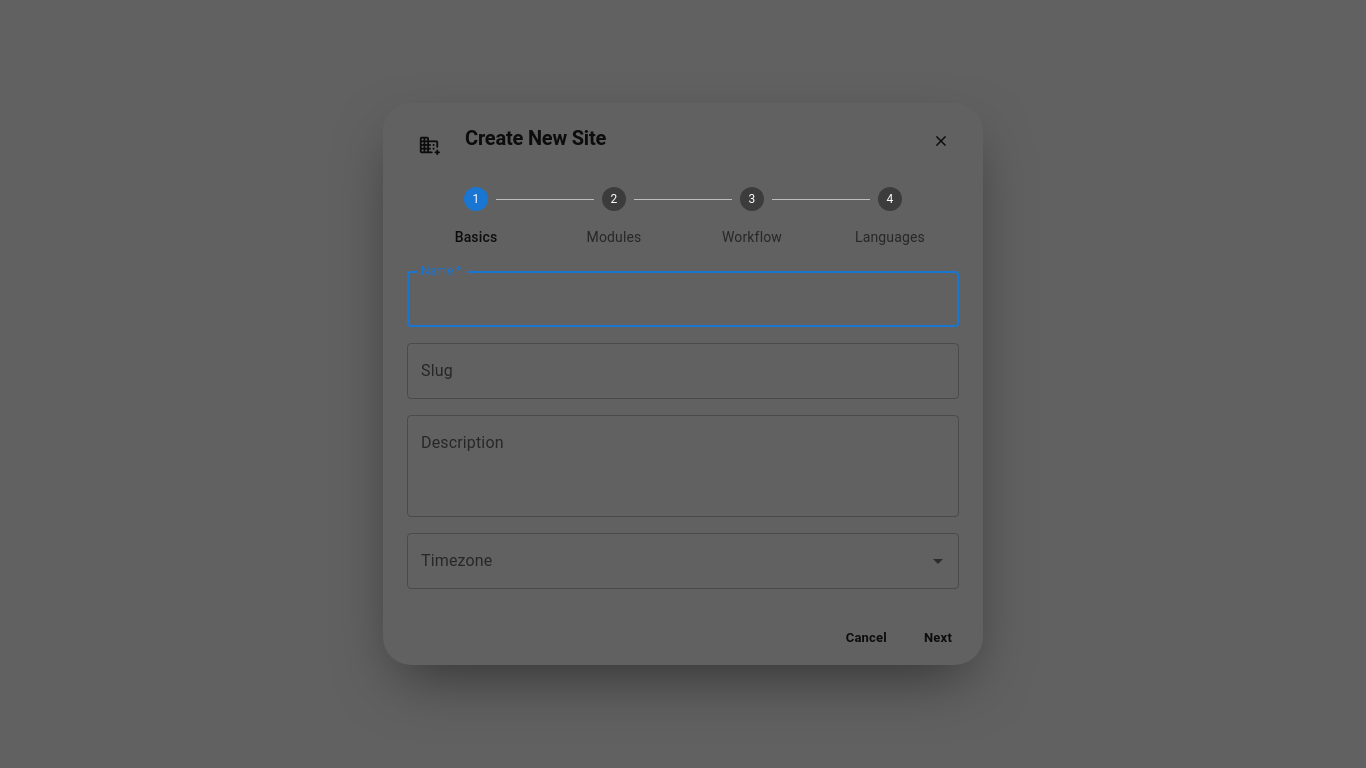
Test case: SiteCreationWizard › shows workflow step with solo/team cards
This screenshot has width=1366, height=768.
// Step 0 → Step 1 → Step 2
Type "My Site" into the field labelled "Name *" at (683, 299), box [407,271,959,327]
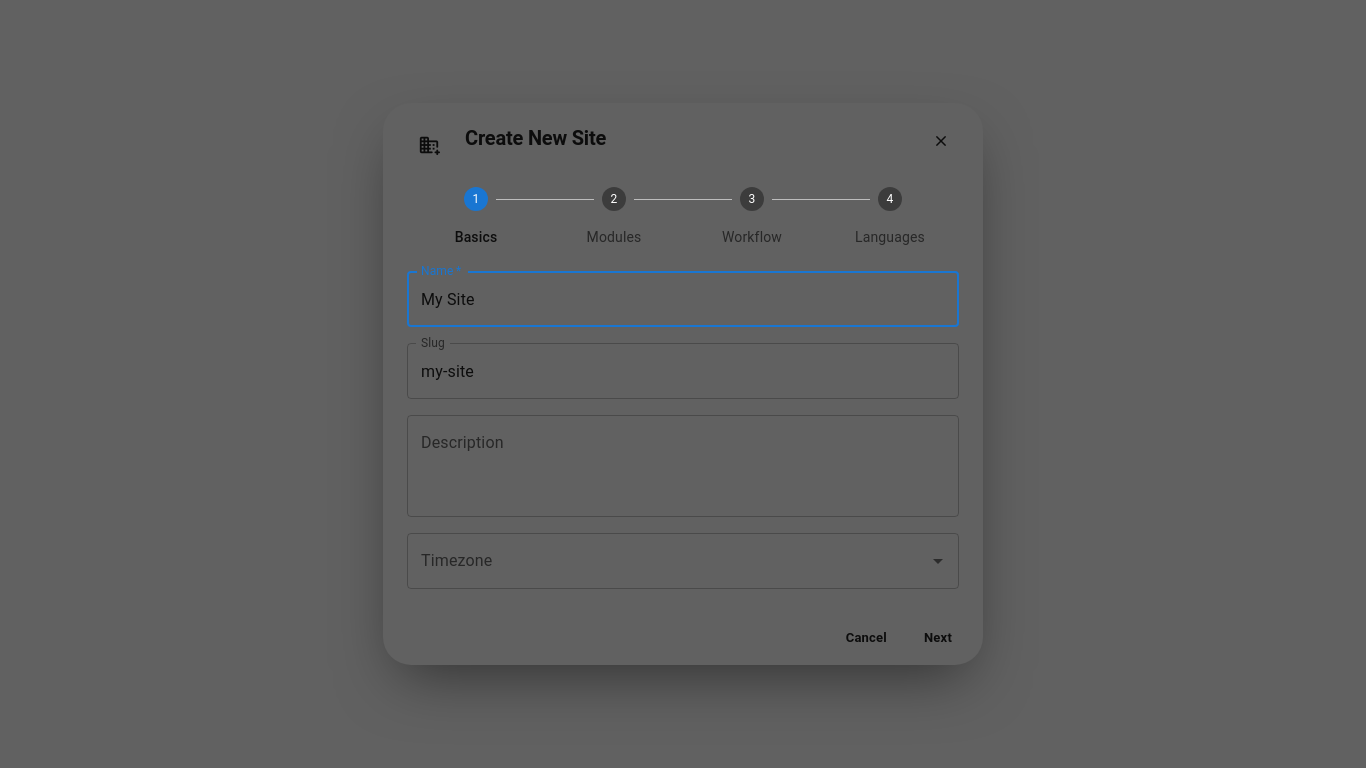
Click the button with test id "site-wizard.btn.next" at (938, 637), box [909,621,967,653]
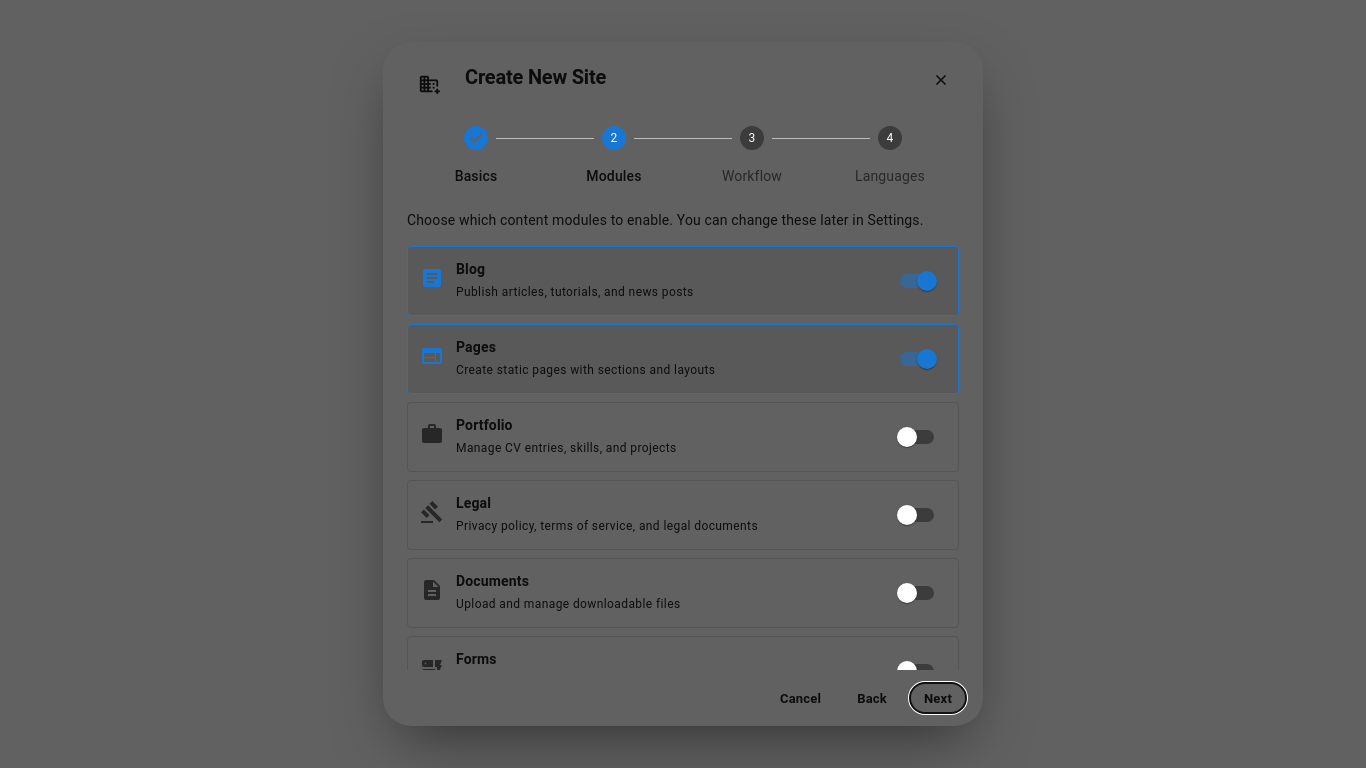
Result: the element with test id "site-wizard.module.blog" is shown at [917,271,937,291]
Click the button with test id "site-wizard.btn.next" at (938, 698), box [909,682,967,714]
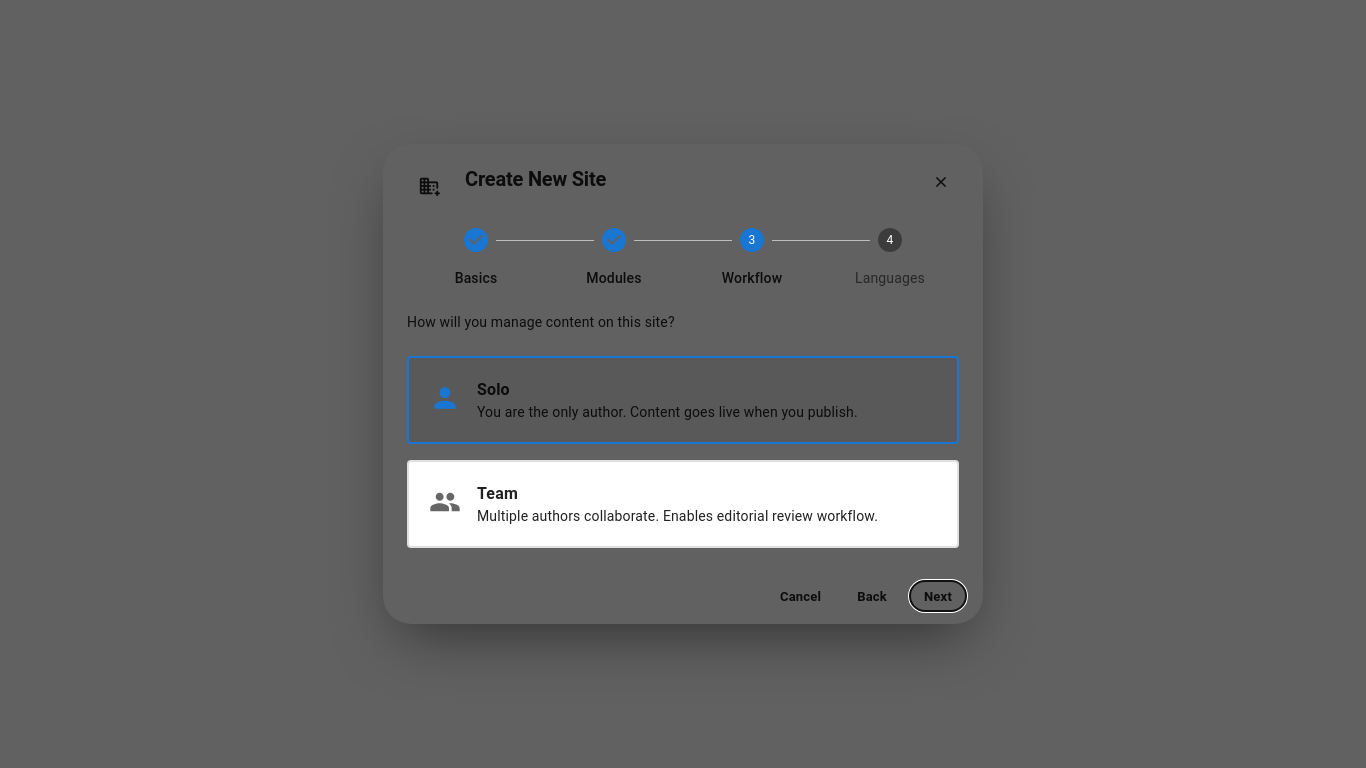
Result: the button with test id "site-wizard.workflow.solo" is shown at [409,358,957,442]
Result: the button with test id "site-wizard.workflow.team" is shown at [409,462,957,546]
